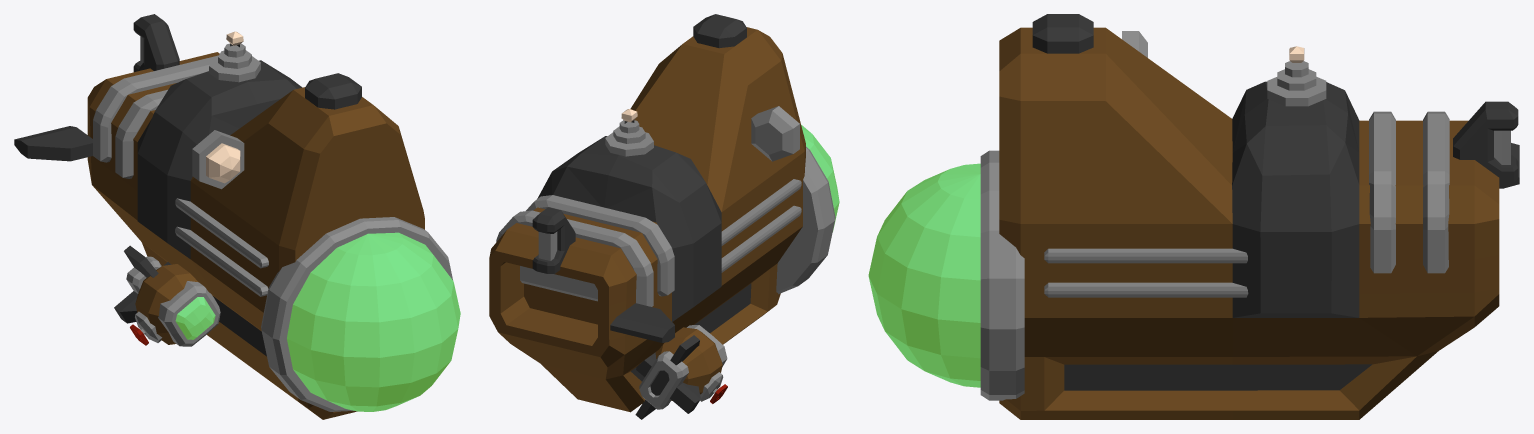
The model's file is Submarine.fbx.
3 views of the same model, side by side, from view 1: azimuth 30°, elevation 25°; view 2: azimuth 150°, elevation 25°; view 3: azimuth 270°, elevation 25° (orthographic). The views are drawn at different scales.
Parts seen in each view (by area): view 1: Submarine, PodAttached, Lamp, Aileron; view 2: Submarine, PodAttached, Lamp, Aileron; view 3: Submarine.
Part boxes in pixels (box(x1,y1,x2,y2)): Submarine: box(87, 14, 460, 419); PodAttached: box(114, 245, 220, 346); Lamp: box(192, 130, 244, 189); Aileron: box(14, 126, 92, 161); Submarine: box(489, 14, 839, 412); PodAttached: box(635, 325, 727, 419); Lamp: box(751, 106, 799, 161); Aileron: box(610, 303, 674, 342); Submarine: box(868, 14, 1518, 419).
Bounding box in the file's own units: 1220 × 1720 × 2603.
